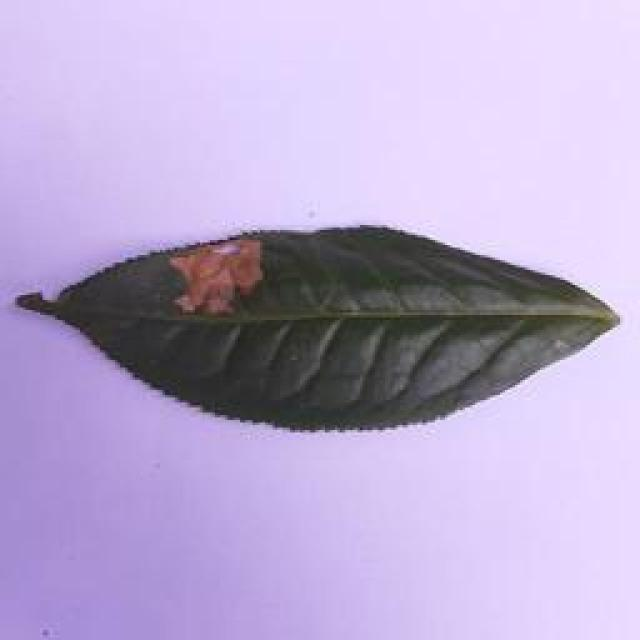Gray Blight: (7, 214, 626, 446)
